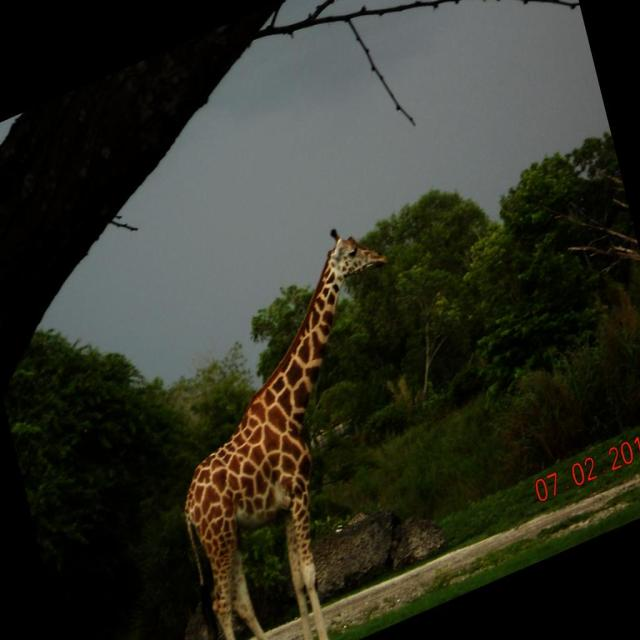Giraffe: (177, 215, 396, 640)
